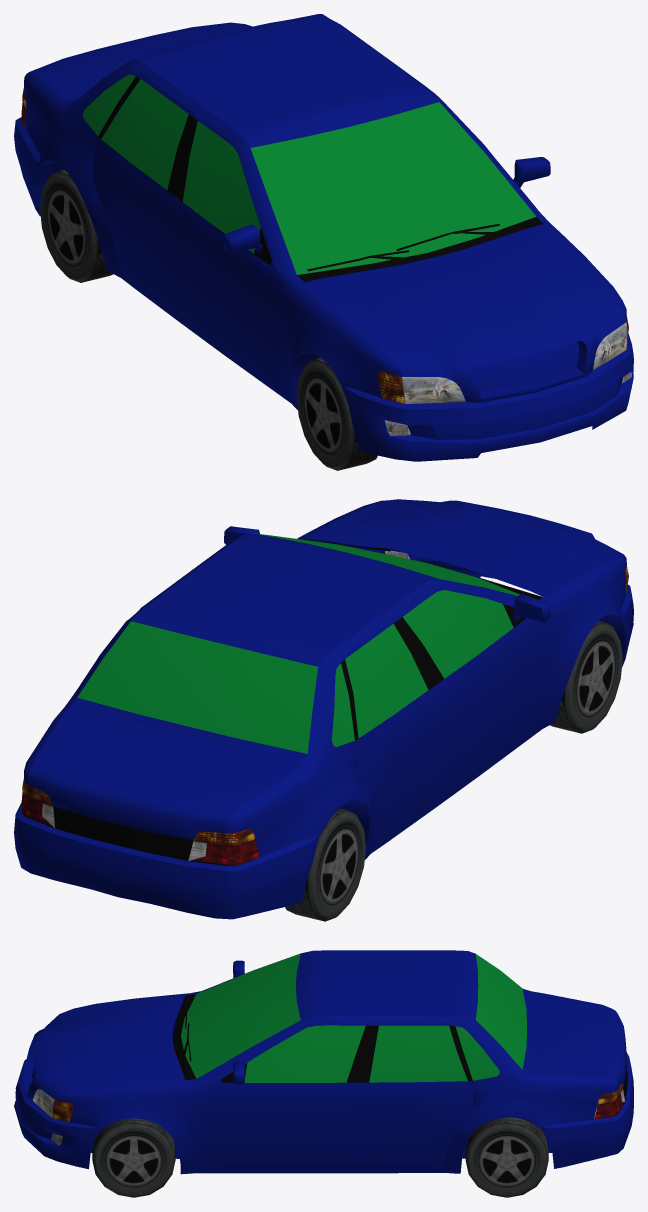
File: car_03.fbx
3 views of the same model, one above another, from view 1: azimuth 30°, elevation 25°; view 2: azimuth 150°, elevation 25°; view 3: azimuth 270°, elevation 25° (orthographic). The views are drawn at different scales.
Visible parts, largest first — view 1: lowcar_02; view 2: lowcar_02; view 3: lowcar_02.
Boxes of the visible parts, x1,y1,x2,y2 form: lowcar_02: (14, 14, 633, 470); lowcar_02: (14, 499, 633, 921); lowcar_02: (14, 950, 633, 1197).
Size of the model in its own units: 3096 by 2159 by 7088.
